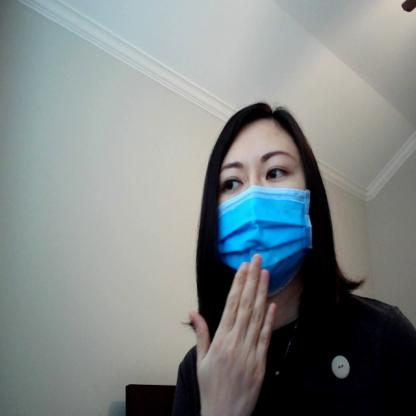thanks: (181, 251, 283, 415)
